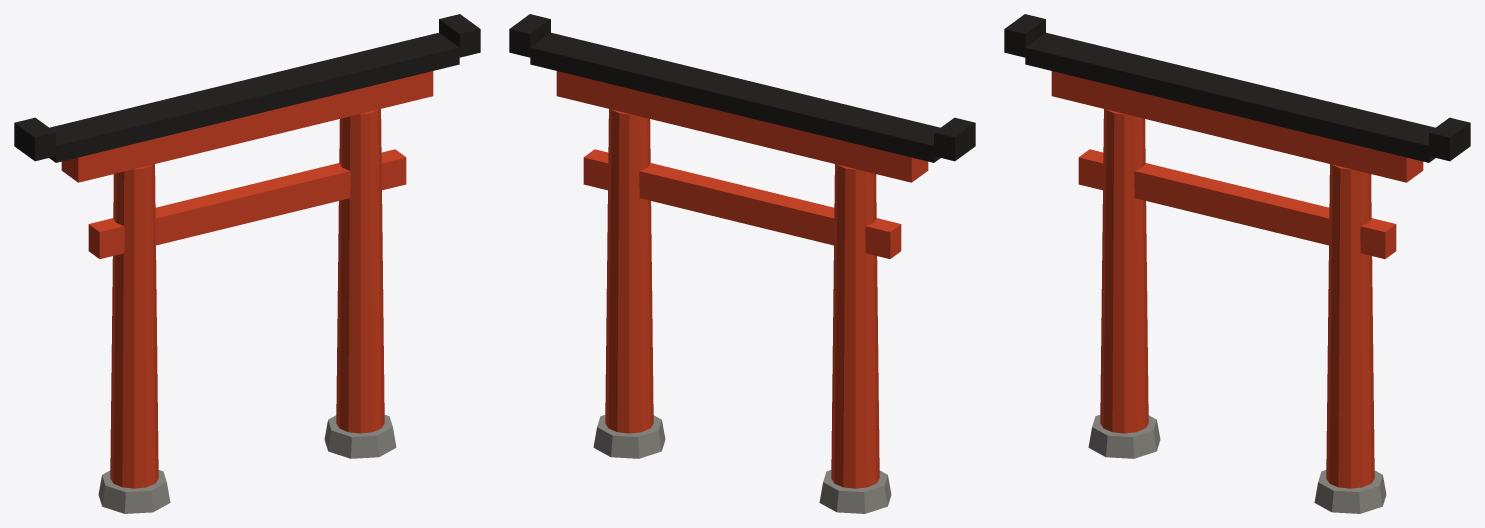
Rendered from torii.glb.
3 renders of one model, left to right at view 1: azimuth 30°, elevation 25°; view 2: azimuth 150°, elevation 25°; view 3: azimuth 330°, elevation 25°, orthographic.
Bounding box in the file's own units: 27.6 × 23.4 × 4.
